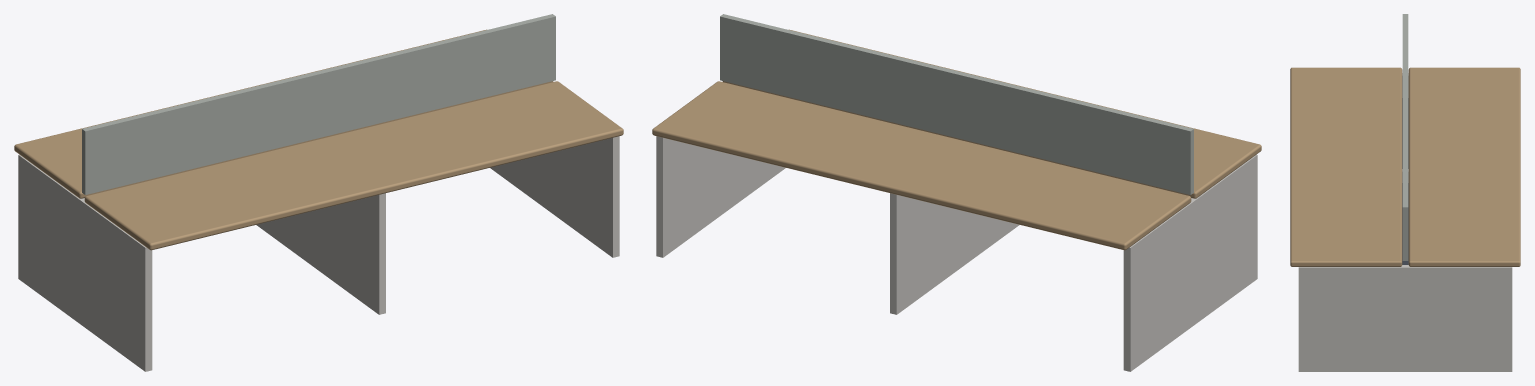
The model's file is mesa-bancada.glb.
3 renders of one model, left to right at view 1: azimuth 30°, elevation 25°; view 2: azimuth 150°, elevation 25°; view 3: azimuth 270°, elevation 25°, orthographic. The views are drawn at different scales.
Parts seen in each view (by area): view 1: mesa-bancada_malha; view 2: mesa-bancada_malha; view 3: mesa-bancada_malha.
Part boxes in pixels (left/top/right/bottom): mesa-bancada_malha: left=14, top=14, right=623, bottom=371; mesa-bancada_malha: left=652, top=14, right=1261, bottom=371; mesa-bancada_malha: left=1290, top=14, right=1520, bottom=371.
Size of the model in its own units: 2.8 by 1.1 by 1.4.
